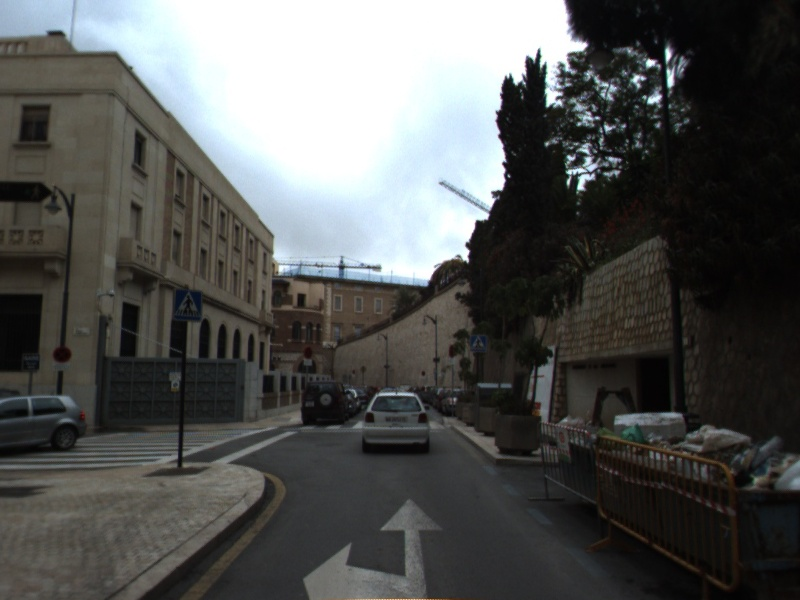STRAIGHT_LEFT: (301, 497, 445, 600)
